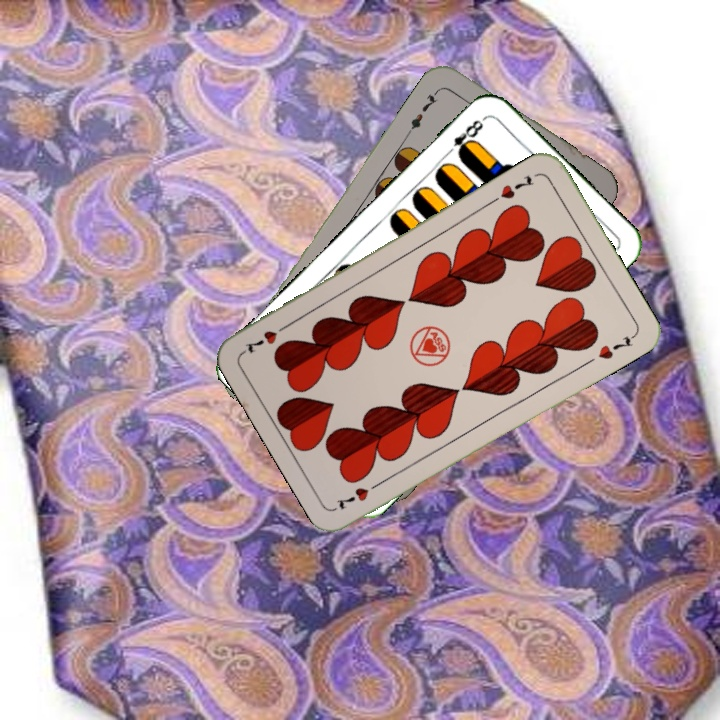E7: (404, 84, 444, 136)
E8: (441, 113, 488, 160)
H7: (332, 476, 386, 512), (487, 171, 537, 206)
